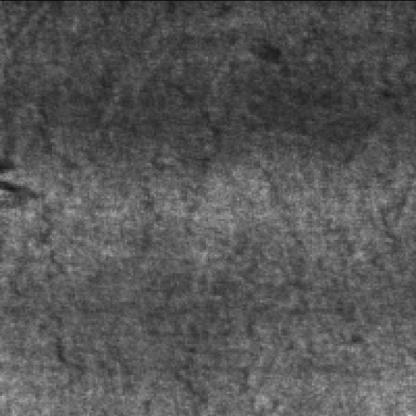crazing: (152, 10, 318, 414), (9, 75, 114, 376)
